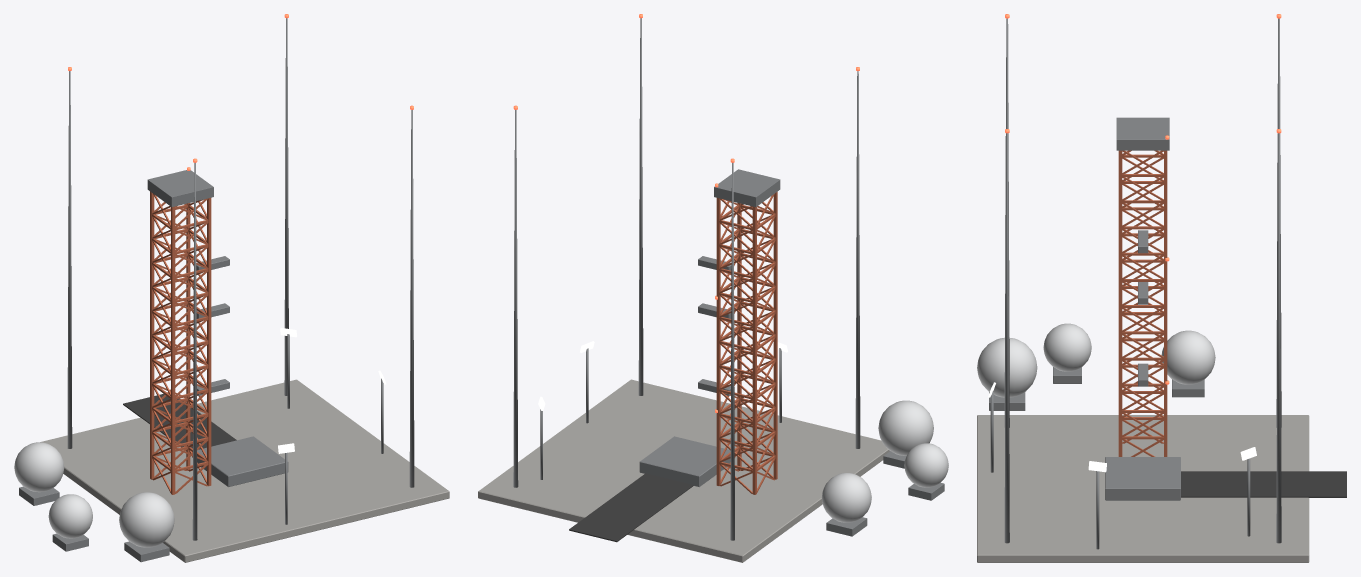
Rendered from launchpad.glb.
3 renders of one model, left to right at view 1: azimuth 30°, elevation 25°; view 2: azimuth 150°, elevation 25°; view 3: azimuth 270°, elevation 25°, orthographic. The views are drawn at different scales.
Parts seen in each view (by area): view 1: PadDeck, ServiceTower, LaunchMount, Tank_0, Tank_2, FlameTrench, TowerTop, Tank_1, LightningMast_1, LightningMast_3, LightningMast_2, LightningMast_0 (+1 smaller); view 2: PadDeck, ServiceTower, FlameTrench, LaunchMount, Tank_0, Tank_2, TowerTop, Tank_1, LightningMast_1, LightningMast_2, LightningMast_3, LightningMast_0; view 3: PadDeck, ServiceTower, FlameTrench, LaunchMount, Tank_0, Tank_2, Tank_1, TowerTop, LightningMast_0, LightningMast_2, LightningMast_3, LightningMast_1 (+2 smaller).
Boxes of the visible parts, x1=… form: PadDeck: x1=40, y1=379, x2=449, y2=562; ServiceTower: x1=150, y1=191, x2=211, y2=494; LaunchMount: x1=197, y1=436, x2=288, y2=486; Tank_0: x1=119, y1=492, x2=174, y2=547; Tank_2: x1=14, y1=442, x2=64, y2=492; FlameTrench: x1=123, y1=394, x2=236, y2=449; TowerTop: x1=147, y1=170, x2=213, y2=206; Tank_1: x1=48, y1=494, x2=92, y2=538; LightningMast_1: x1=67, y1=71, x2=72, y2=448; LightningMast_3: x1=192, y1=163, x2=197, y2=540; LightningMast_2: x1=409, y1=110, x2=414, y2=487; LightningMast_0: x1=284, y1=18, x2=288, y2=395; PadDeck: x1=478, y1=379, x2=889, y2=562; ServiceTower: x1=716, y1=192, x2=777, y2=494; FlameTrench: x1=569, y1=473, x2=693, y2=542; LaunchMount: x1=639, y1=436, x2=730, y2=486; Tank_0: x1=878, y1=400, x2=933, y2=455; Tank_2: x1=821, y1=473, x2=871, y2=522; TowerTop: x1=714, y1=169, x2=780, y2=207; Tank_1: x1=904, y1=443, x2=948, y2=487; LightningMast_1: x1=730, y1=163, x2=734, y2=540; LightningMast_2: x1=638, y1=18, x2=643, y2=395; LightningMast_3: x1=855, y1=71, x2=860, y2=448; LightningMast_0: x1=513, y1=110, x2=518, y2=487; PadDeck: x1=977, y1=415, x2=1309, y2=562; ServiceTower: x1=1118, y1=150, x2=1167, y2=456; FlameTrench: x1=1181, y1=471, x2=1346, y2=497; LaunchMount: x1=1105, y1=457, x2=1180, y2=500; Tank_0: x1=977, y1=337, x2=1037, y2=397; Tank_2: x1=1161, y1=330, x2=1215, y2=384; Tank_1: x1=1043, y1=323, x2=1091, y2=371; TowerTop: x1=1116, y1=117, x2=1169, y2=150; LightningMast_0: x1=1276, y1=133, x2=1281, y2=543; LightningMast_2: x1=1004, y1=133, x2=1009, y2=543; LightningMast_3: x1=1004, y1=18, x2=1009, y2=427; LightningMast_1: x1=1276, y1=18, x2=1281, y2=427.
Size of the model in its own units: 59.2 by 61.5 by 49.
